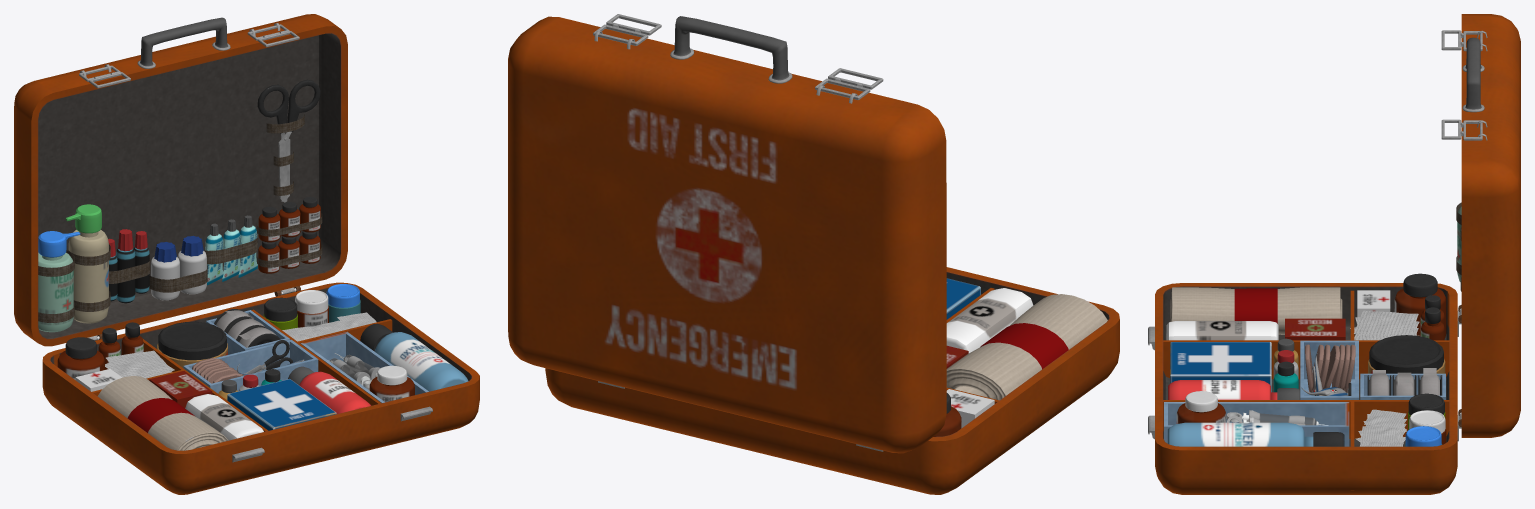
3 views of the same model, side by side, from view 1: azimuth 30°, elevation 25°; view 2: azimuth 150°, elevation 25°; view 3: azimuth 270°, elevation 25° (orthographic). The views are drawn at different scales.
Parts seen in each view (by area): view 1: MetalCover, MetalBox, BandAidRoll, DamageCream, MedicalPackage, Alcohol, Barbiturics, Additive, HydrantCream, HydroCream, SpecialBarbiturics, Biiotics3 (+15 smaller); view 2: MetalCover, MetalBox, BandAidRoll, Cotton, MiniAidBox, MedicalPackage; view 3: MetalBox, MetalCover, BandAidRoll, MedicalPackage, Alcohol, HydroCream, Cotton, OxyWater, Additive, PadStack, StickRoll1, Towels (+8 smaller).
Part boxes in pixels (x1=…): MetalCover: x1=14, y1=14, x2=347, y2=346; MetalBox: x1=42, y1=282, x2=479, y2=494; BandAidRoll: x1=97, y1=376, x2=228, y2=450; DamageCream: x1=65, y1=204, x2=108, y2=323; MedicalPackage: x1=227, y1=379, x2=336, y2=430; Alcohol: x1=360, y1=323, x2=468, y2=391; Barbiturics: x1=258, y1=197, x2=320, y2=273; Additive: x1=263, y1=284, x2=360, y2=329; HydrantCream: x1=38, y1=231, x2=80, y2=332; HydroCream: x1=157, y1=321, x2=227, y2=367; SpecialBarbiturics: x1=151, y1=235, x2=206, y2=300; Biiotics3: x1=108, y1=229, x2=149, y2=303; MetalCover: x1=508, y1=16, x2=946, y2=453; MetalBox: x1=545, y1=267, x2=1119, y2=494; BandAidRoll: x1=946, y1=294, x2=1107, y2=400; Cotton: x1=946, y1=288, x2=1033, y2=353; MiniAidBox: x1=946, y1=389, x2=994, y2=427; MedicalPackage: x1=946, y1=278, x2=980, y2=319; MetalBox: x1=1148, y1=283, x2=1461, y2=494; MetalCover: x1=1456, y1=14, x2=1520, y2=437; BandAidRoll: x1=1170, y1=287, x2=1342, y2=334; MedicalPackage: x1=1170, y1=342, x2=1271, y2=392; Alcohol: x1=1167, y1=422, x2=1344, y2=446; HydroCream: x1=1368, y1=335, x2=1445, y2=373; Cotton: x1=1166, y1=321, x2=1278, y2=340; OxyWater: x1=1168, y1=380, x2=1300, y2=399; Additive: x1=1405, y1=393, x2=1446, y2=446; PadStack: x1=1305, y1=344, x2=1355, y2=392; StickRoll1: x1=1367, y1=368, x2=1441, y2=395; Towels: x1=1350, y1=310, x2=1419, y2=340.
Size of the model in its own units: 0.6942 by 0.7005 by 0.6531.
1 material, 1 textured.
